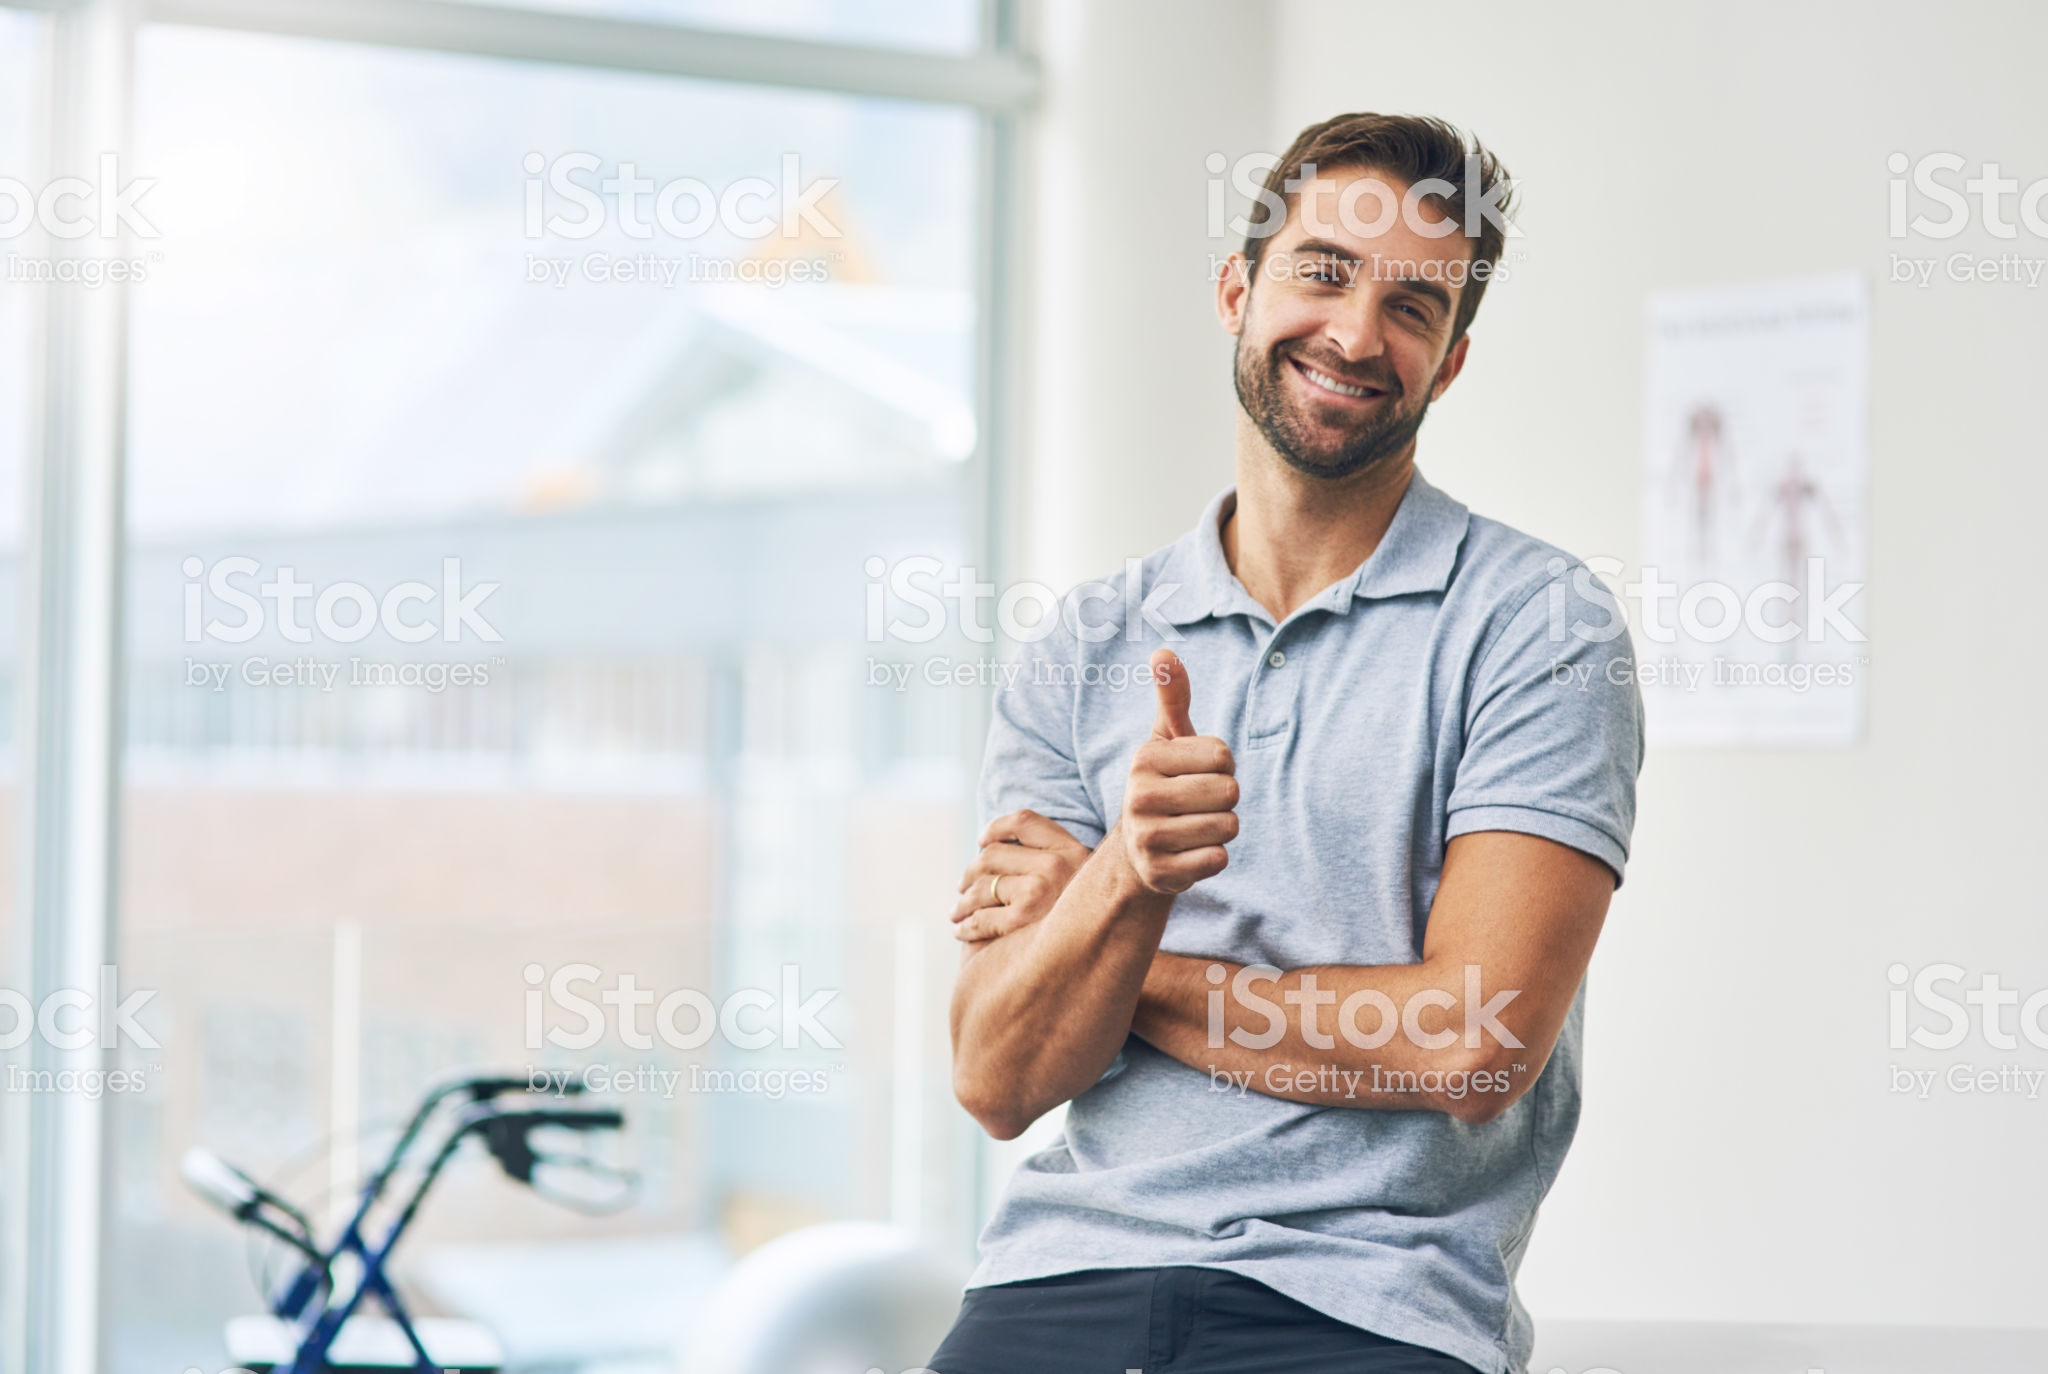thumbsup: (1119, 644, 1243, 899)
